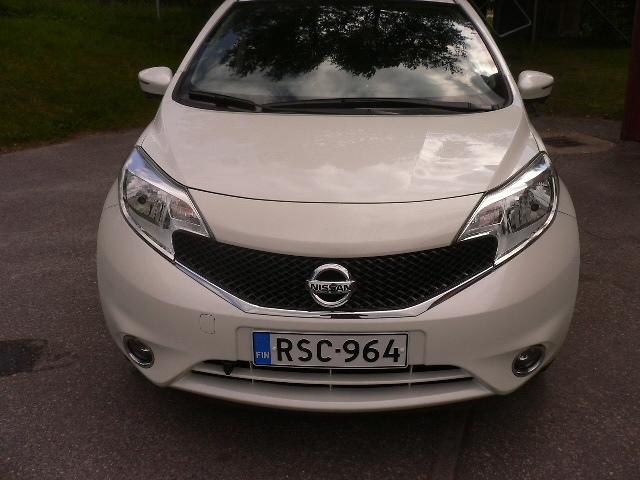license: (247, 325, 413, 373)
